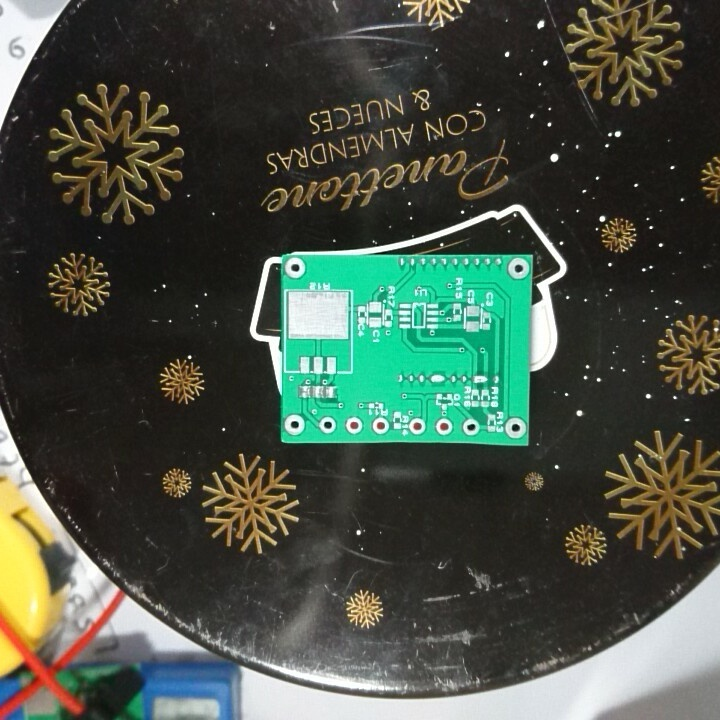F: (505, 255, 531, 282), (283, 255, 308, 279), (283, 412, 305, 435), (504, 416, 525, 438), (433, 416, 454, 436), (317, 415, 337, 435), (407, 416, 427, 435), (344, 415, 363, 435), (461, 417, 480, 436), (370, 416, 389, 434)
P: (429, 372, 447, 385), (470, 372, 488, 385)
